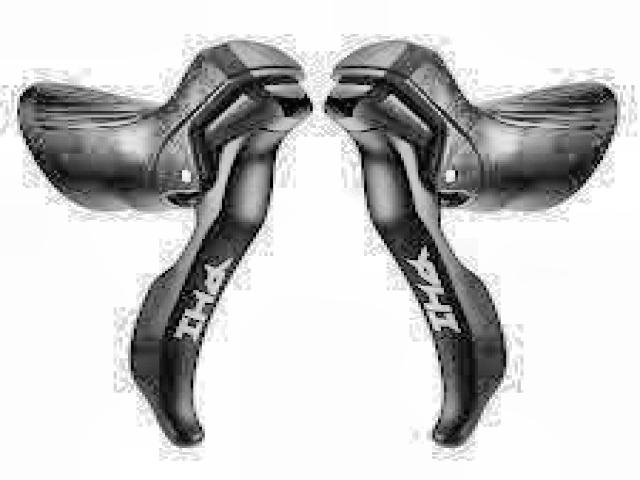sti_shifter: (18, 34, 316, 449), (323, 31, 605, 452)
